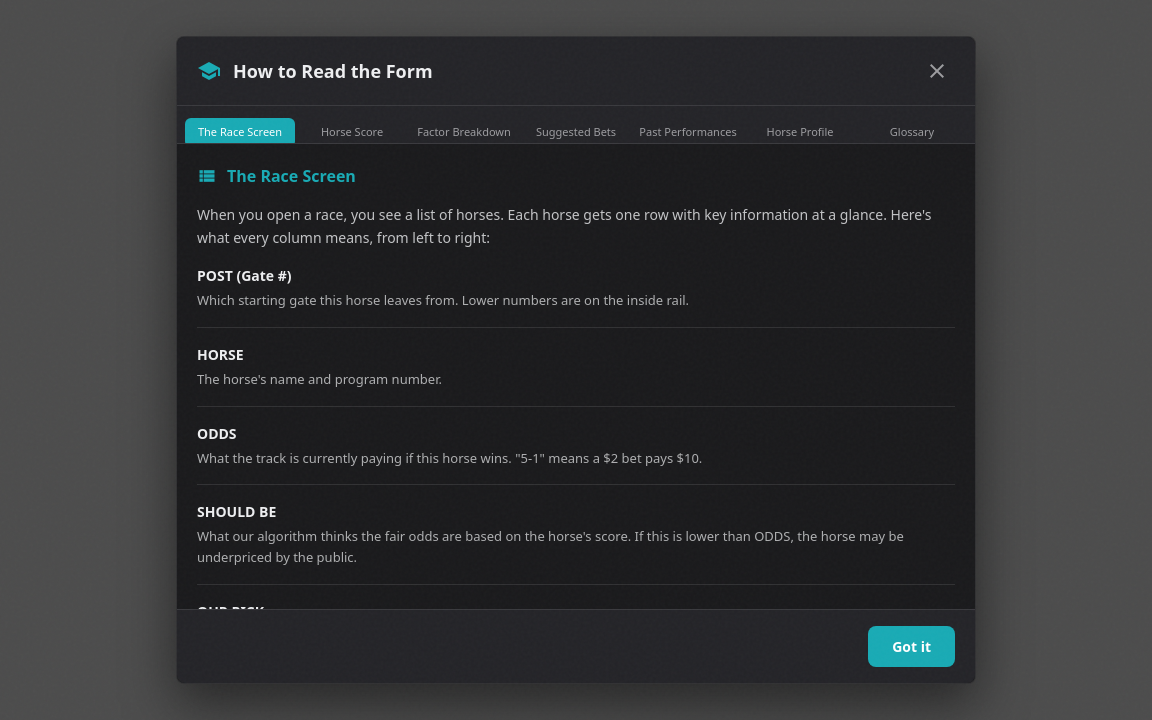
ScoringHelpModal › Tab 3: Factor Breakdown › displays icon legend
Click the button "Factor Breakdown": (464, 132) top-left (409, 118), bottom-right (519, 146)
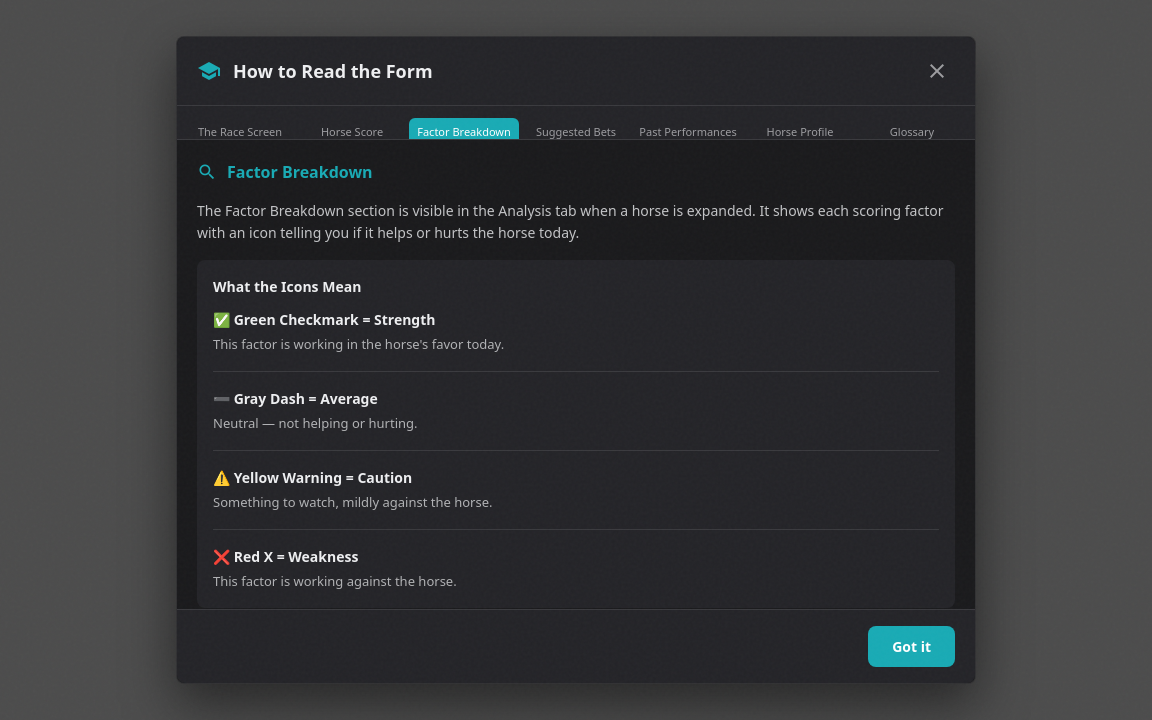
Check: the heading "What the Icons Mean" is shown, box top-left (213, 277), bottom-right (361, 296)
